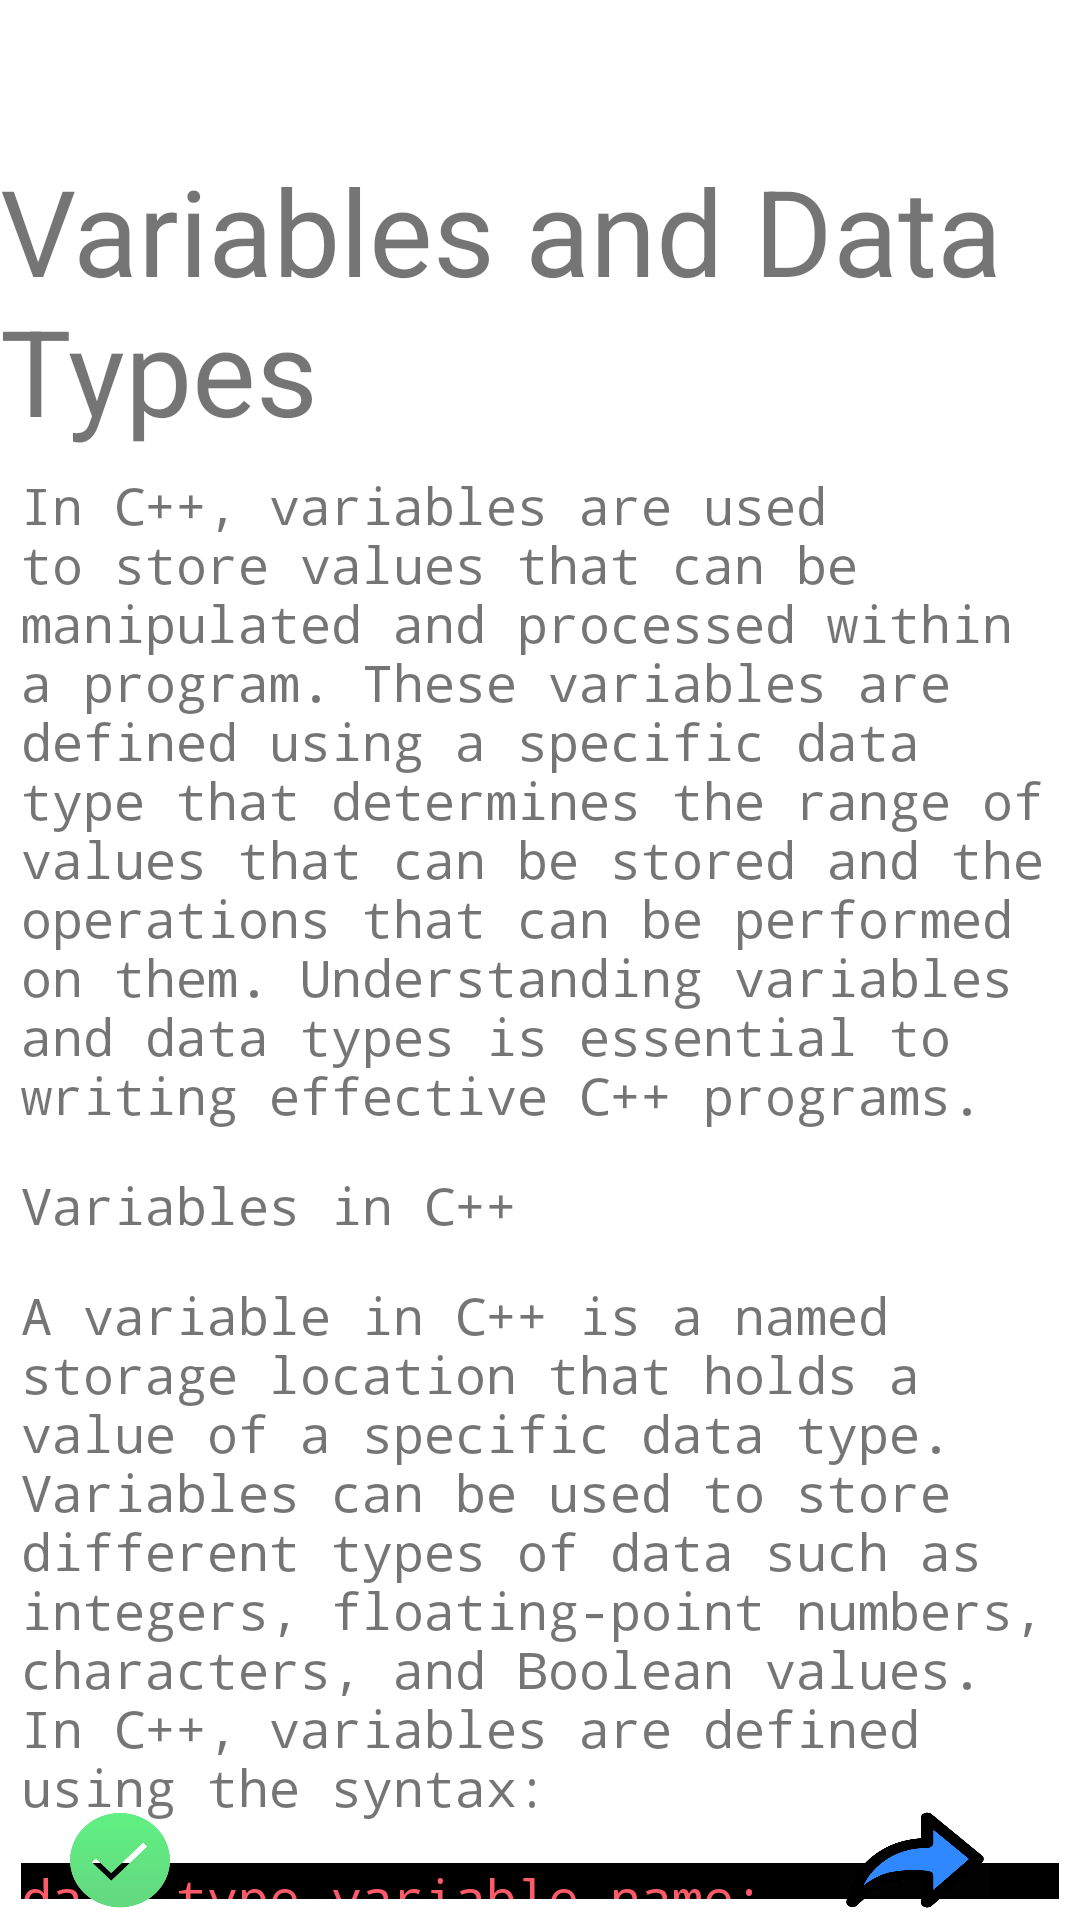

Screen size 1080×1920. Icon name, then its box in pixels as (x1, y1, x2, y2):
next: (840, 1812, 990, 1908)
